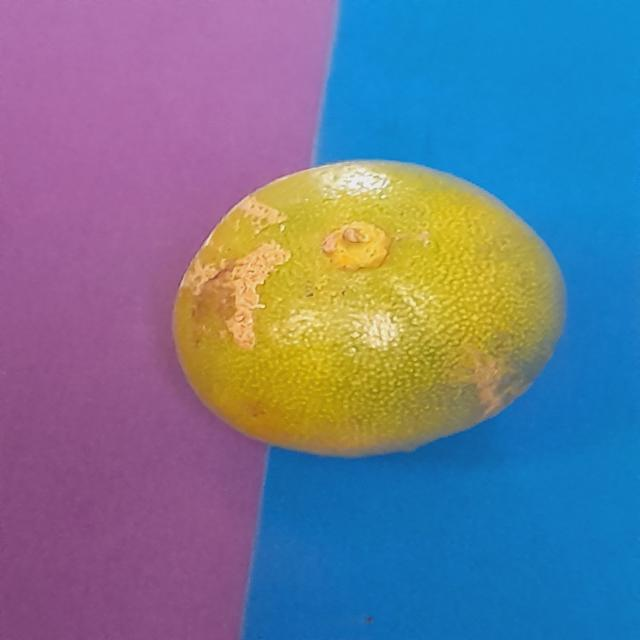thrips: (162, 147, 587, 459)
